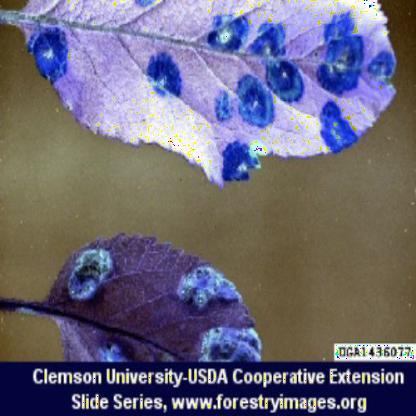Apple rust leaf: (1, 3, 410, 203), (30, 222, 273, 362)
